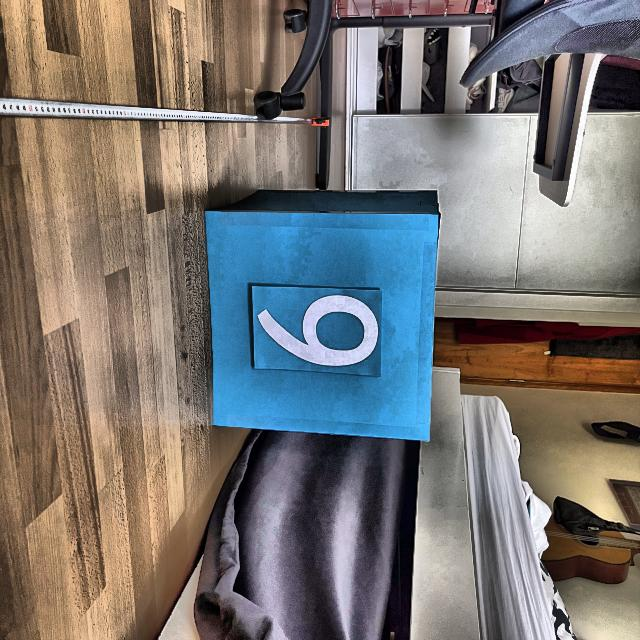blue box: (199, 186, 442, 446)
nine: (255, 291, 382, 371)
